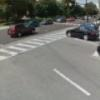cars: (67, 24, 100, 41)
